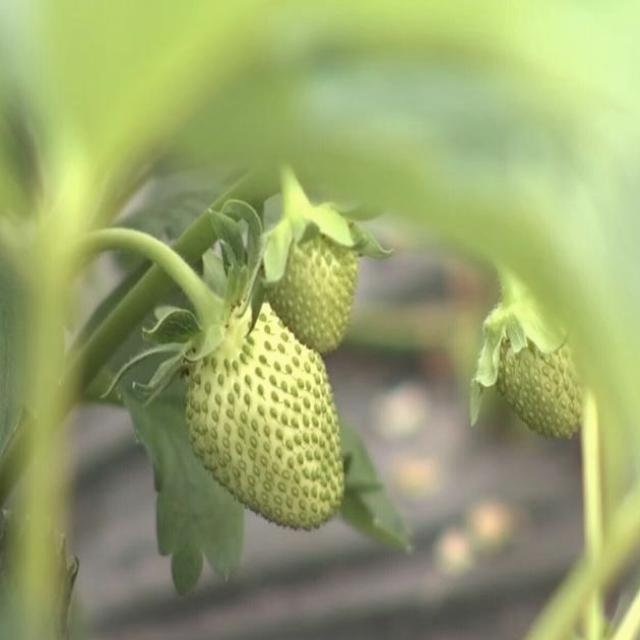Healthy Fruit: (182, 301, 346, 531), (262, 218, 360, 354), (493, 308, 588, 440)
